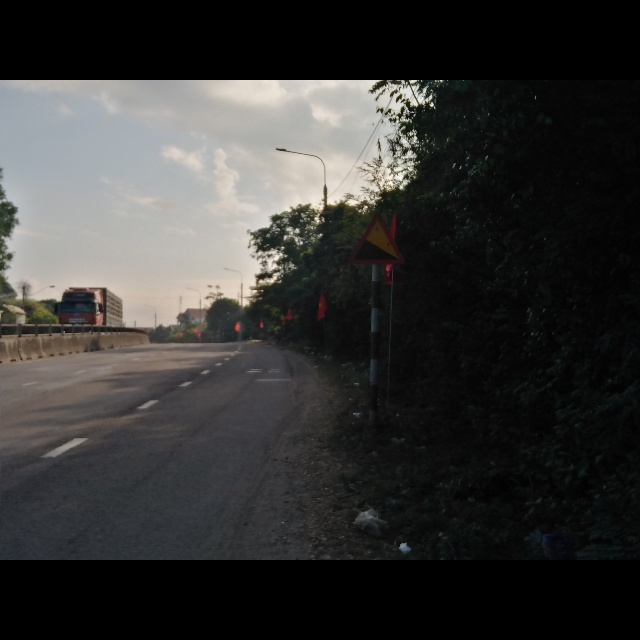Dốc lên nguy hiểm: (349, 211, 408, 266)
